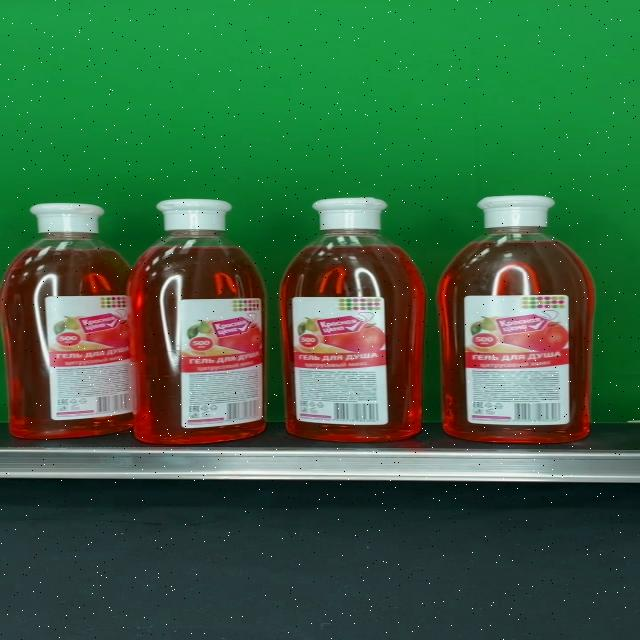Bottle: (438, 195, 596, 443), (279, 197, 426, 442), (126, 199, 268, 442), (0, 202, 133, 440)
Cap: (476, 195, 555, 228), (313, 198, 388, 230), (28, 203, 104, 234), (156, 199, 232, 230)
